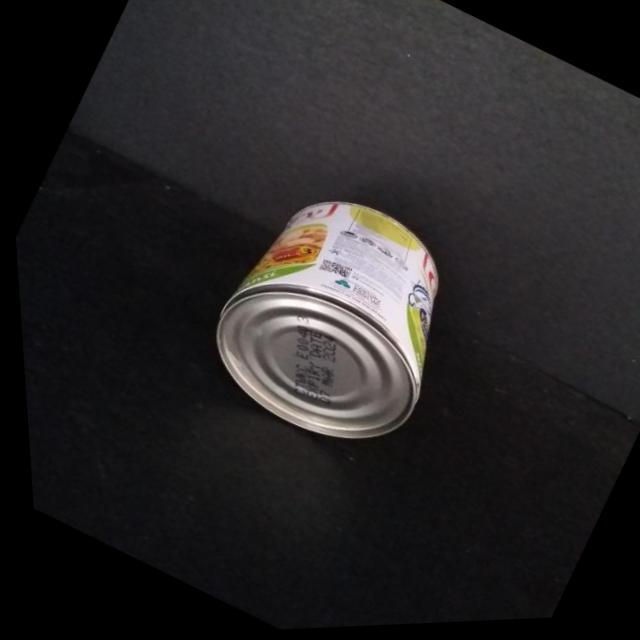metal: (217, 202, 437, 437)
